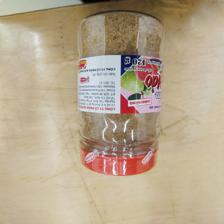Hao_hao: (74, 10, 164, 177)
